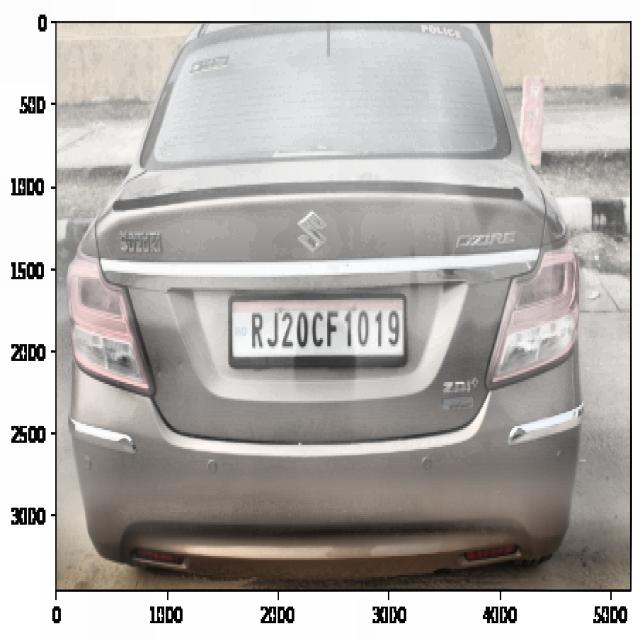license_plate: (245, 302, 402, 358)
